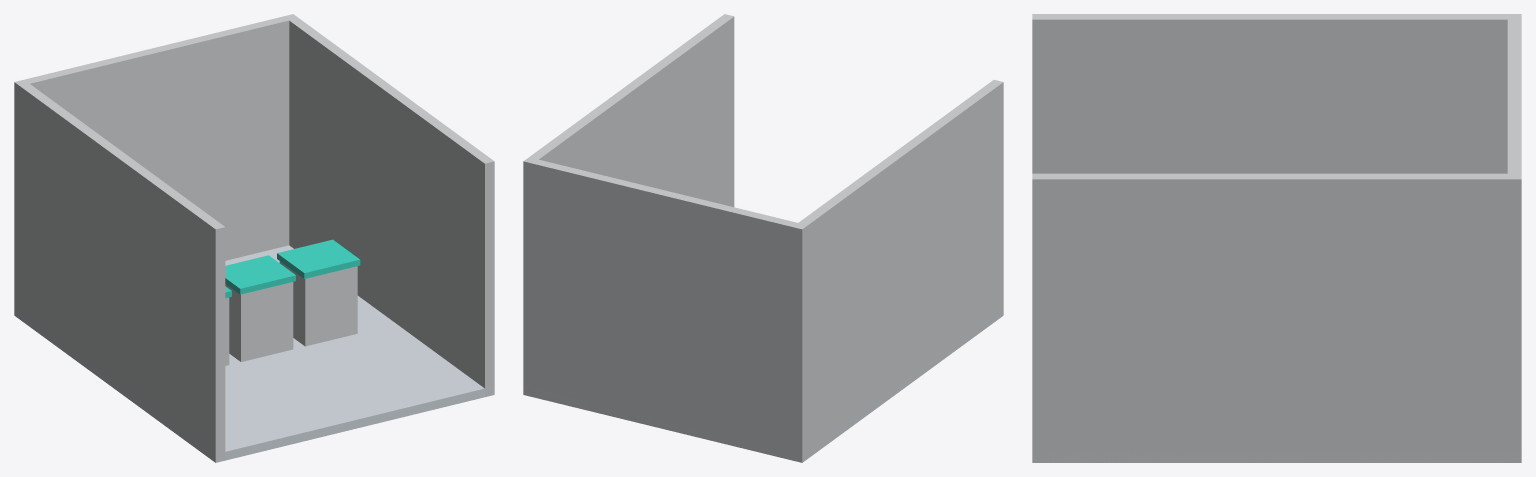
The picture shows the model from 3 angles, left to right: view 1: azimuth 30°, elevation 25°; view 2: azimuth 150°, elevation 25°; view 3: azimuth 270°, elevation 25°; orthographic projection. The views are drawn at different scales.
Parts seen in each view (by area): view 1: Exhibition Booth Concept; view 2: Exhibition Booth Concept; view 3: Exhibition Booth Concept.
Boxes of the visible parts, x1,y1,x2,y2 form: Exhibition Booth Concept: (14, 14, 494, 462); Exhibition Booth Concept: (523, 14, 1003, 462); Exhibition Booth Concept: (1032, 14, 1521, 462).
Bounding box in the file's own units: 4 × 3.2 × 5.
